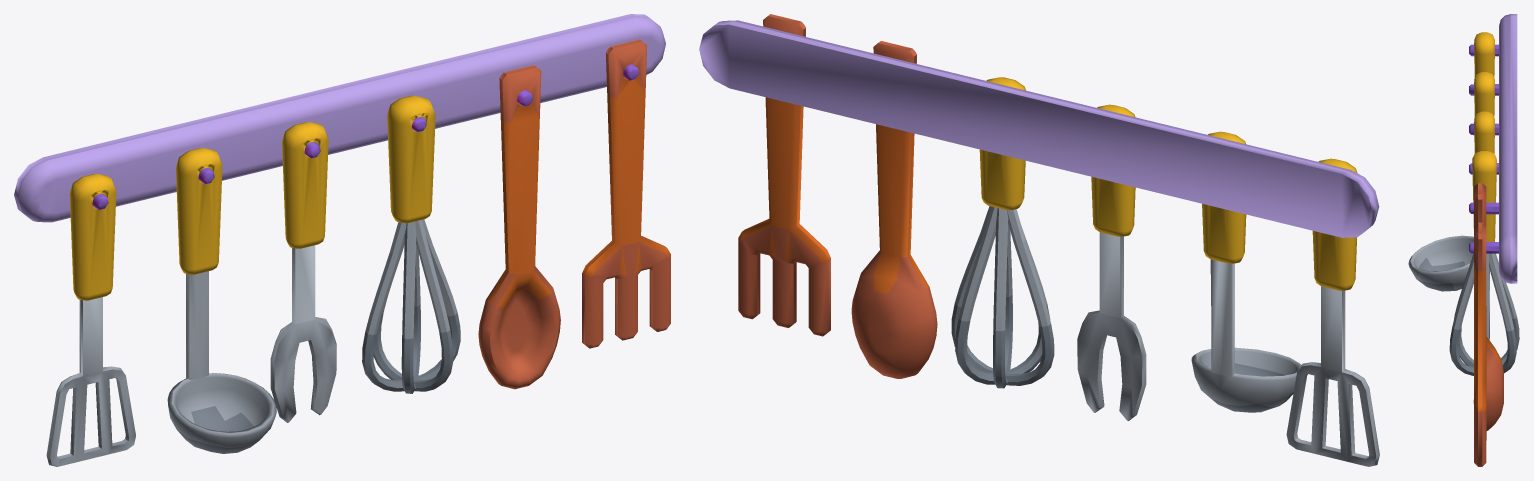
File: porta_utensilios_natal_parede_pacote.glb
3 renders of one model, left to right at view 1: azimuth 30°, elevation 25°; view 2: azimuth 150°, elevation 25°; view 3: azimuth 270°, elevation 25°, orthographic. The views are drawn at different scales.
Parts seen in each view (by area): view 1: porta_utensilios_natal_parede_pacote; view 2: porta_utensilios_natal_parede_pacote; view 3: porta_utensilios_natal_parede_pacote.
Part boxes in pixels (left/top/right/bottom): porta_utensilios_natal_parede_pacote: left=14, top=14, right=670, bottom=466; porta_utensilios_natal_parede_pacote: left=699, top=14, right=1379, bottom=466; porta_utensilios_natal_parede_pacote: left=1408, top=14, right=1519, bottom=466.
Size of the model in its own units: 0.6189 by 0.2949 by 0.121.
Materials: 1 (1 with a texture image).
